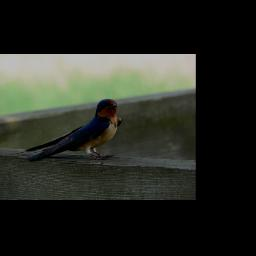Swallow: (9, 97, 123, 163)
